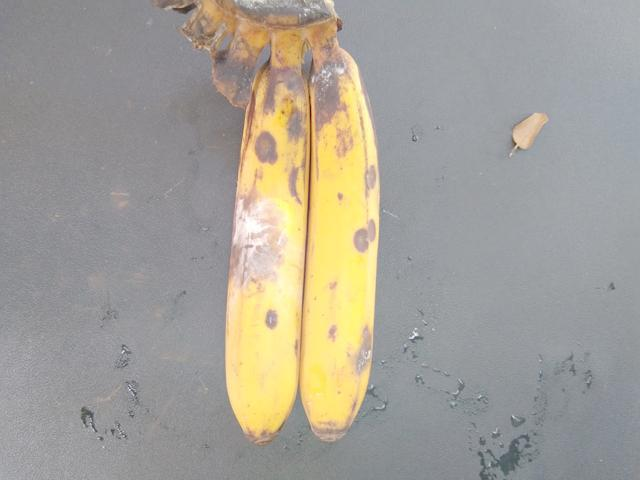overripe: (287, 54, 406, 440), (197, 67, 309, 447)
rotten: (168, 155, 299, 306)
